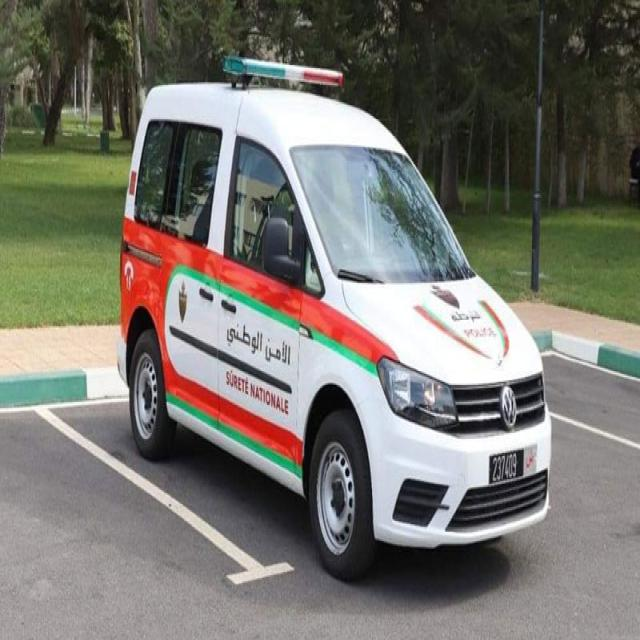Police car: (117, 45, 556, 588)
